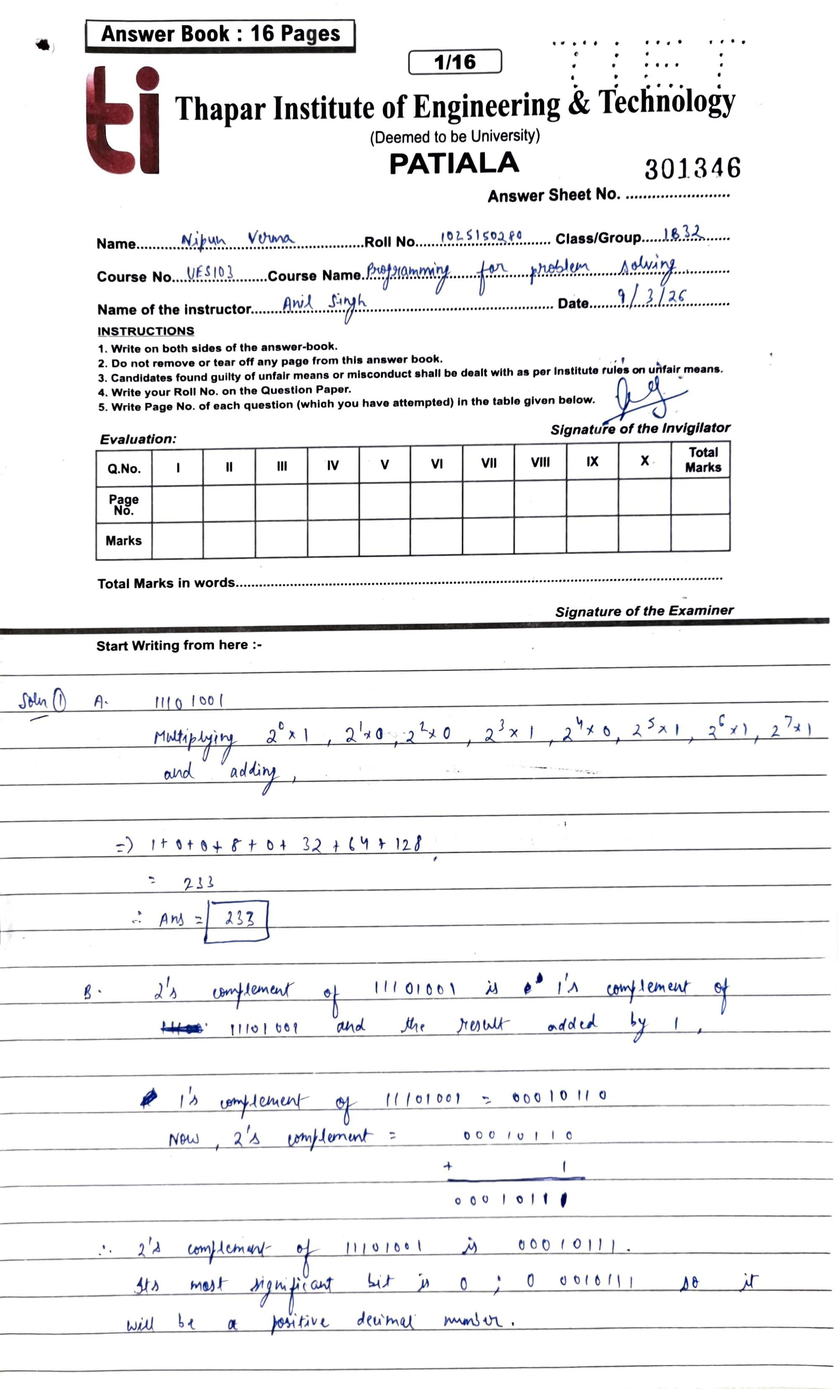cuttings: (159, 1019, 205, 1037), (139, 1085, 159, 1112), (523, 980, 533, 996), (535, 971, 544, 985)
